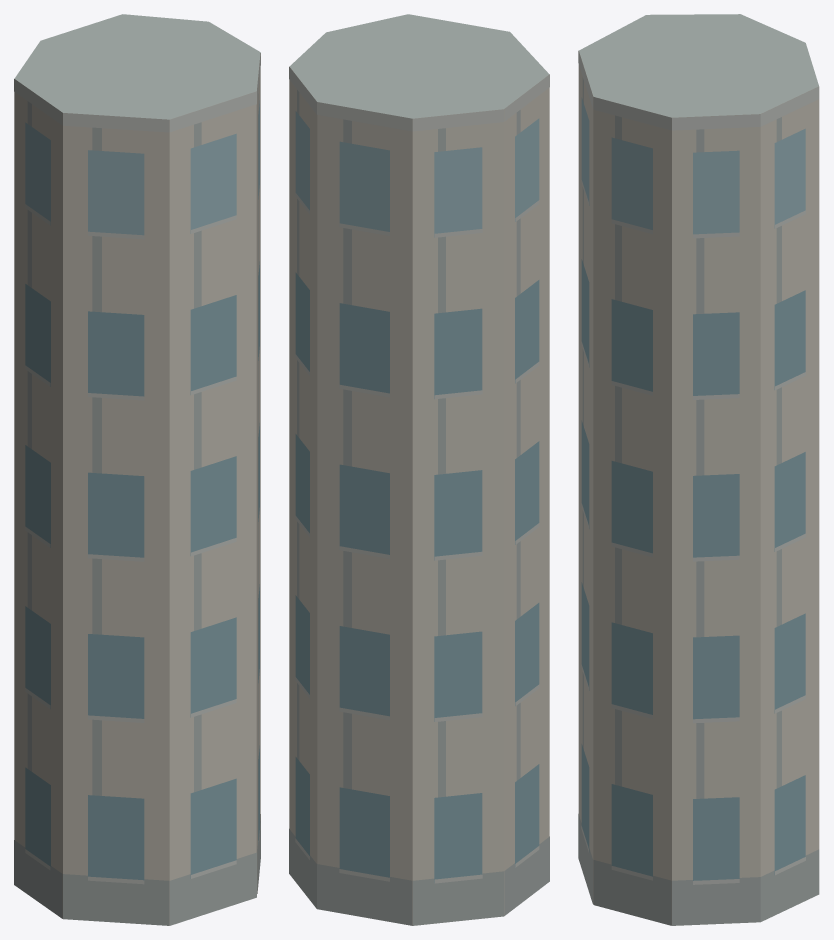
File: survey-upis-32639923.glb
3 renders of one model, left to right at view 1: azimuth 30°, elevation 25°; view 2: azimuth 150°, elevation 25°; view 3: azimuth 270°, elevation 25°, orthographic.
Visible parts, largest first — view 1: survey-upis-32639923.tmp; view 2: survey-upis-32639923.tmp; view 3: survey-upis-32639923.tmp.
Boxes of the visible parts, x1,y1,x2,y2 form: survey-upis-32639923.tmp: (14,14,260,925); survey-upis-32639923.tmp: (289,14,549,925); survey-upis-32639923.tmp: (578,14,819,925).
Size of the model in its own units: 4.21 by 15.25 by 4.12.
